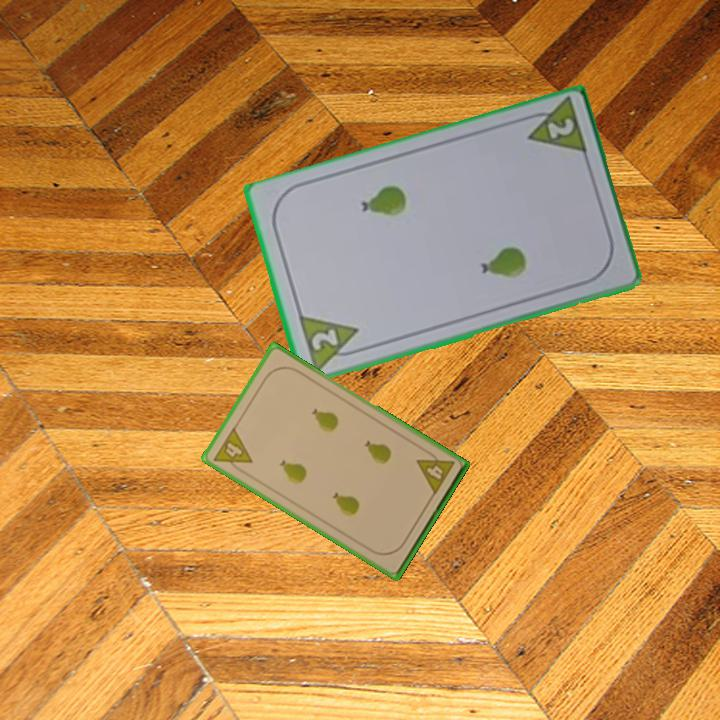2p: (307, 326, 341, 355), (543, 115, 577, 143)
4p: (210, 424, 255, 477), (413, 446, 457, 498)
